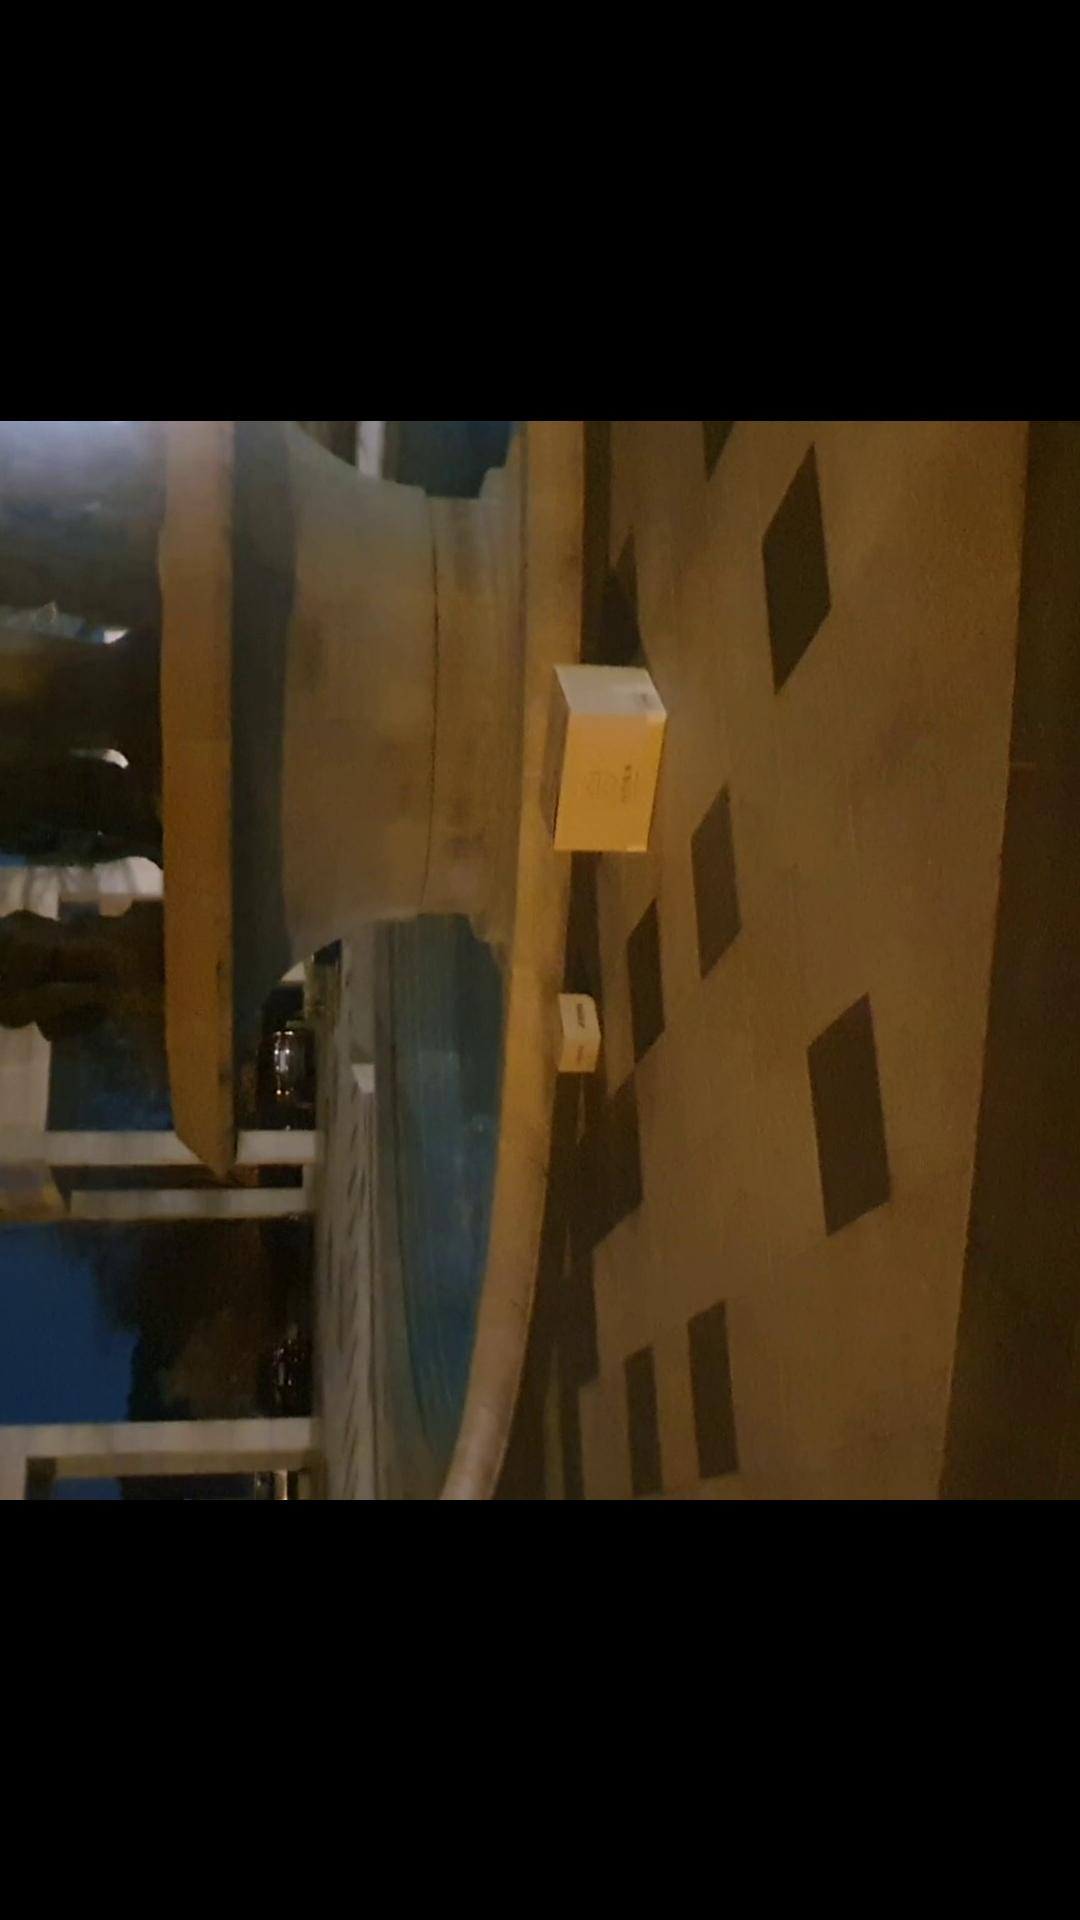Box: (535, 655, 675, 882), (533, 980, 608, 1097)
